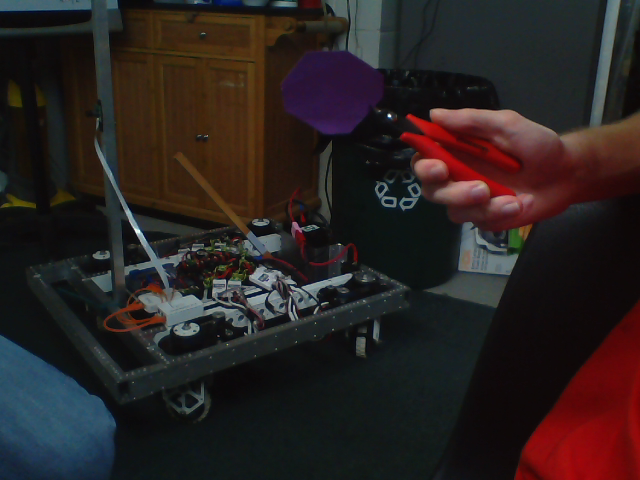ball: (282, 51, 384, 135)
